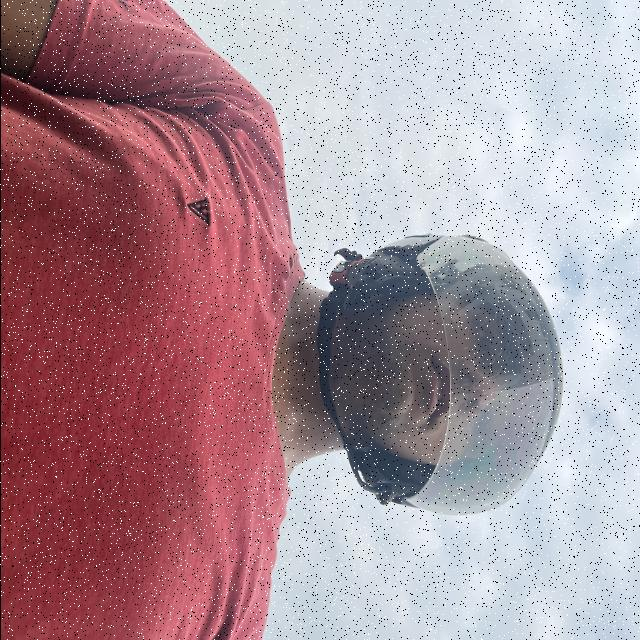Helmet: (316, 235, 561, 515)
